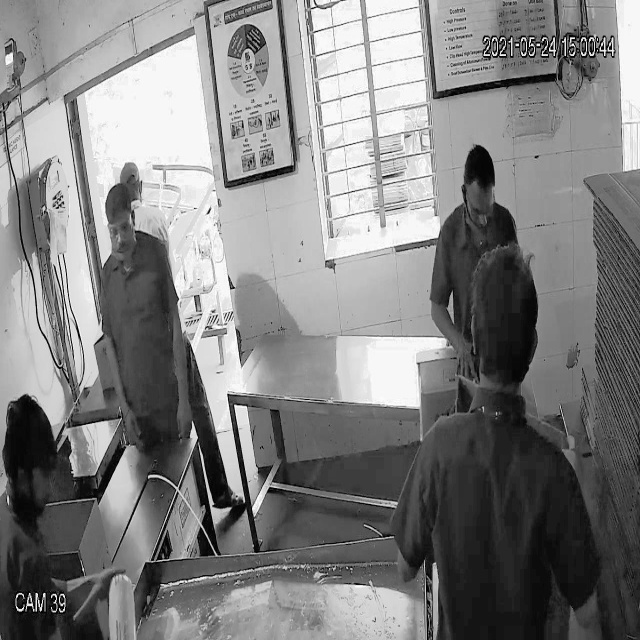Gafas: (104, 216, 136, 244)
